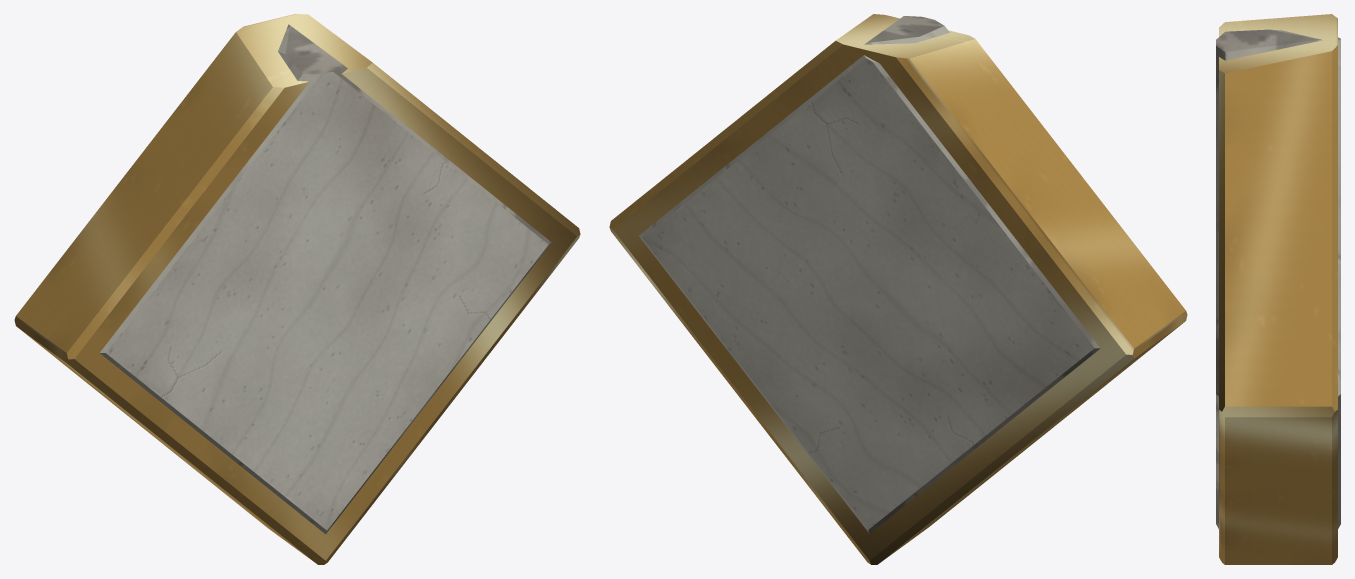
Rendered from common_runestone.obj.
3 views of the same model, side by side, from view 1: azimuth 30°, elevation 25°; view 2: azimuth 150°, elevation 25°; view 3: azimuth 270°, elevation 25° (orthographic). The views are drawn at different scales.
Visible parts, largest first — view 1: Ivory_seal, Solid_gold_binding; view 2: Ivory_seal, Solid_gold_binding; view 3: Solid_gold_binding, Ivory_seal.
Boxes of the visible parts, bbox=[...] form: Ivory_seal: bbox=[100, 24, 551, 534]; Solid_gold_binding: bbox=[14, 14, 580, 564]; Ivory_seal: bbox=[639, 16, 1100, 533]; Solid_gold_binding: bbox=[609, 14, 1187, 564]; Solid_gold_binding: bbox=[1219, 14, 1337, 564]; Ivory_seal: bbox=[1216, 29, 1340, 528].
Size of the model in its own units: 0.4945 by 0.4651 by 0.099.
